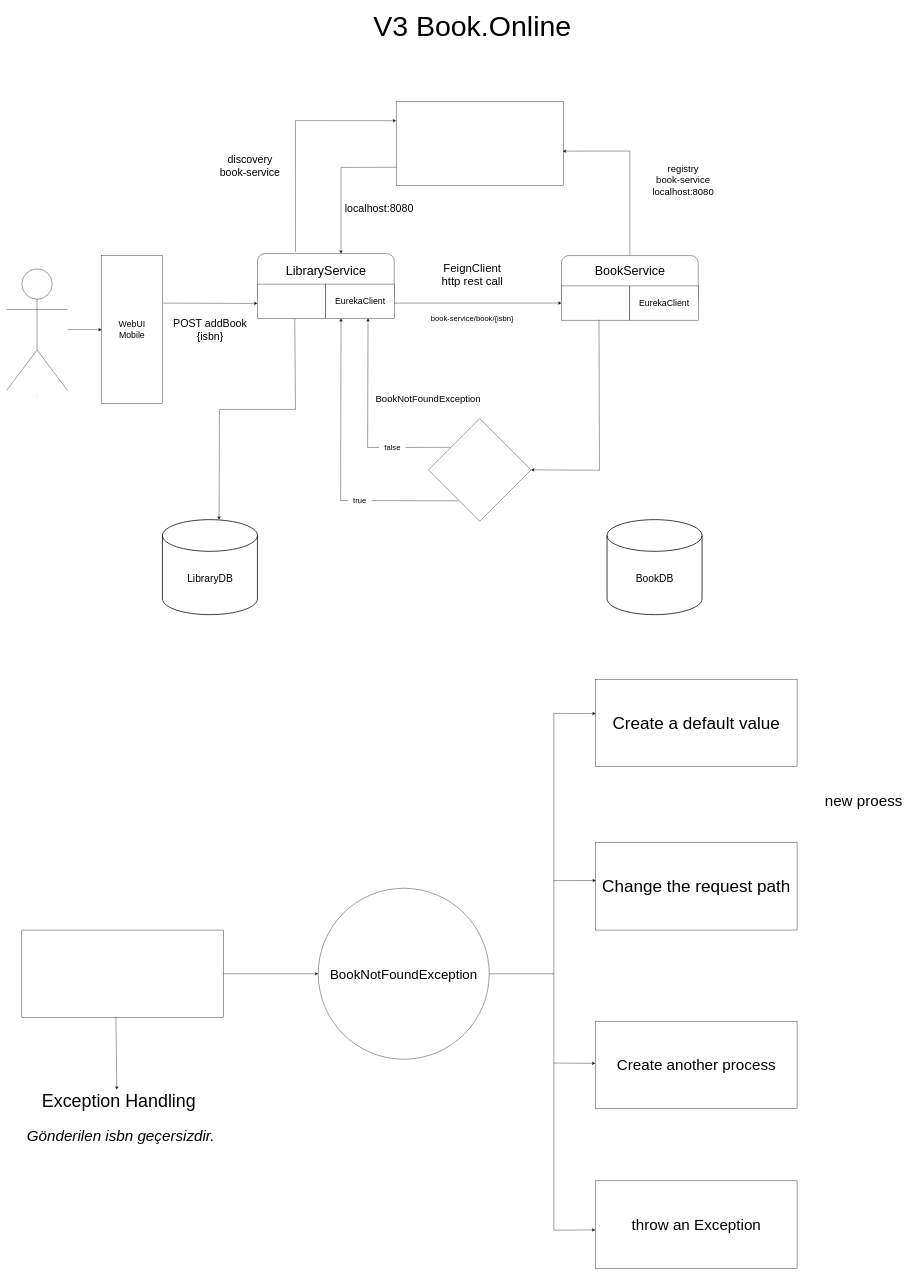
This 914x1275 diagram has some shape labels left out. The shapes that lost their labels are listed below. From the top down, each one's box as (x1, y1, x2, y2) in pixels, then its label:
(396, 101, 563, 185): EurekaServer
(257, 284, 326, 318): LibraryAPI
(561, 286, 630, 320): BookAPI
(428, 418, 531, 521): isIsbnExist
(21, 930, 223, 1017): Stop Process Inform User
